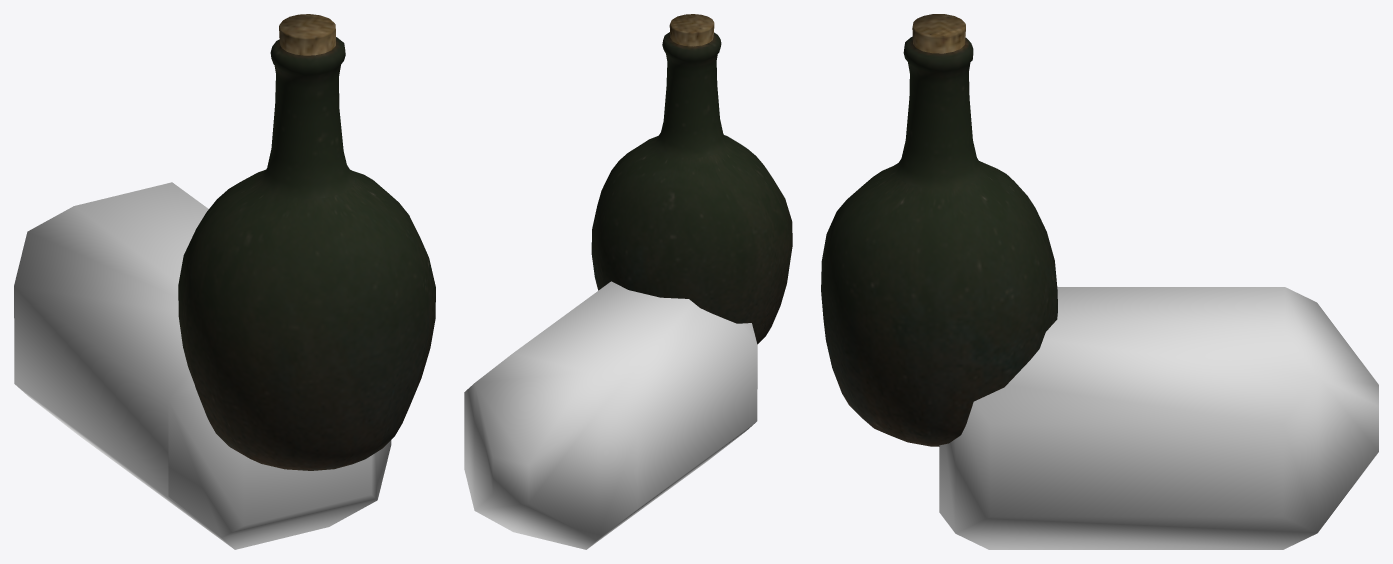
Rendered from SM_Bottle_A.fbx.
The picture shows the model from 3 angles, left to right: view 1: azimuth 30°, elevation 25°; view 2: azimuth 150°, elevation 25°; view 3: azimuth 270°, elevation 25°; orthographic projection. The views are drawn at different scales.
Parts seen in each view (by area): view 1: SM_Bottle_A, SM_Bottle_A_ConvexHulls; view 2: SM_Bottle_A_ConvexHulls, SM_Bottle_A; view 3: SM_Bottle_A_ConvexHulls, SM_Bottle_A.
Part boxes in pixels (x1,y1,x2,y2): SM_Bottle_A: (178, 14, 435, 470); SM_Bottle_A_ConvexHulls: (14, 182, 391, 549); SM_Bottle_A_ConvexHulls: (464, 281, 757, 549); SM_Bottle_A: (591, 14, 792, 344); SM_Bottle_A_ConvexHulls: (939, 287, 1378, 549); SM_Bottle_A: (821, 14, 1057, 446).
Size of the model in its own units: 0.1756 by 0.402 by 0.4033.
